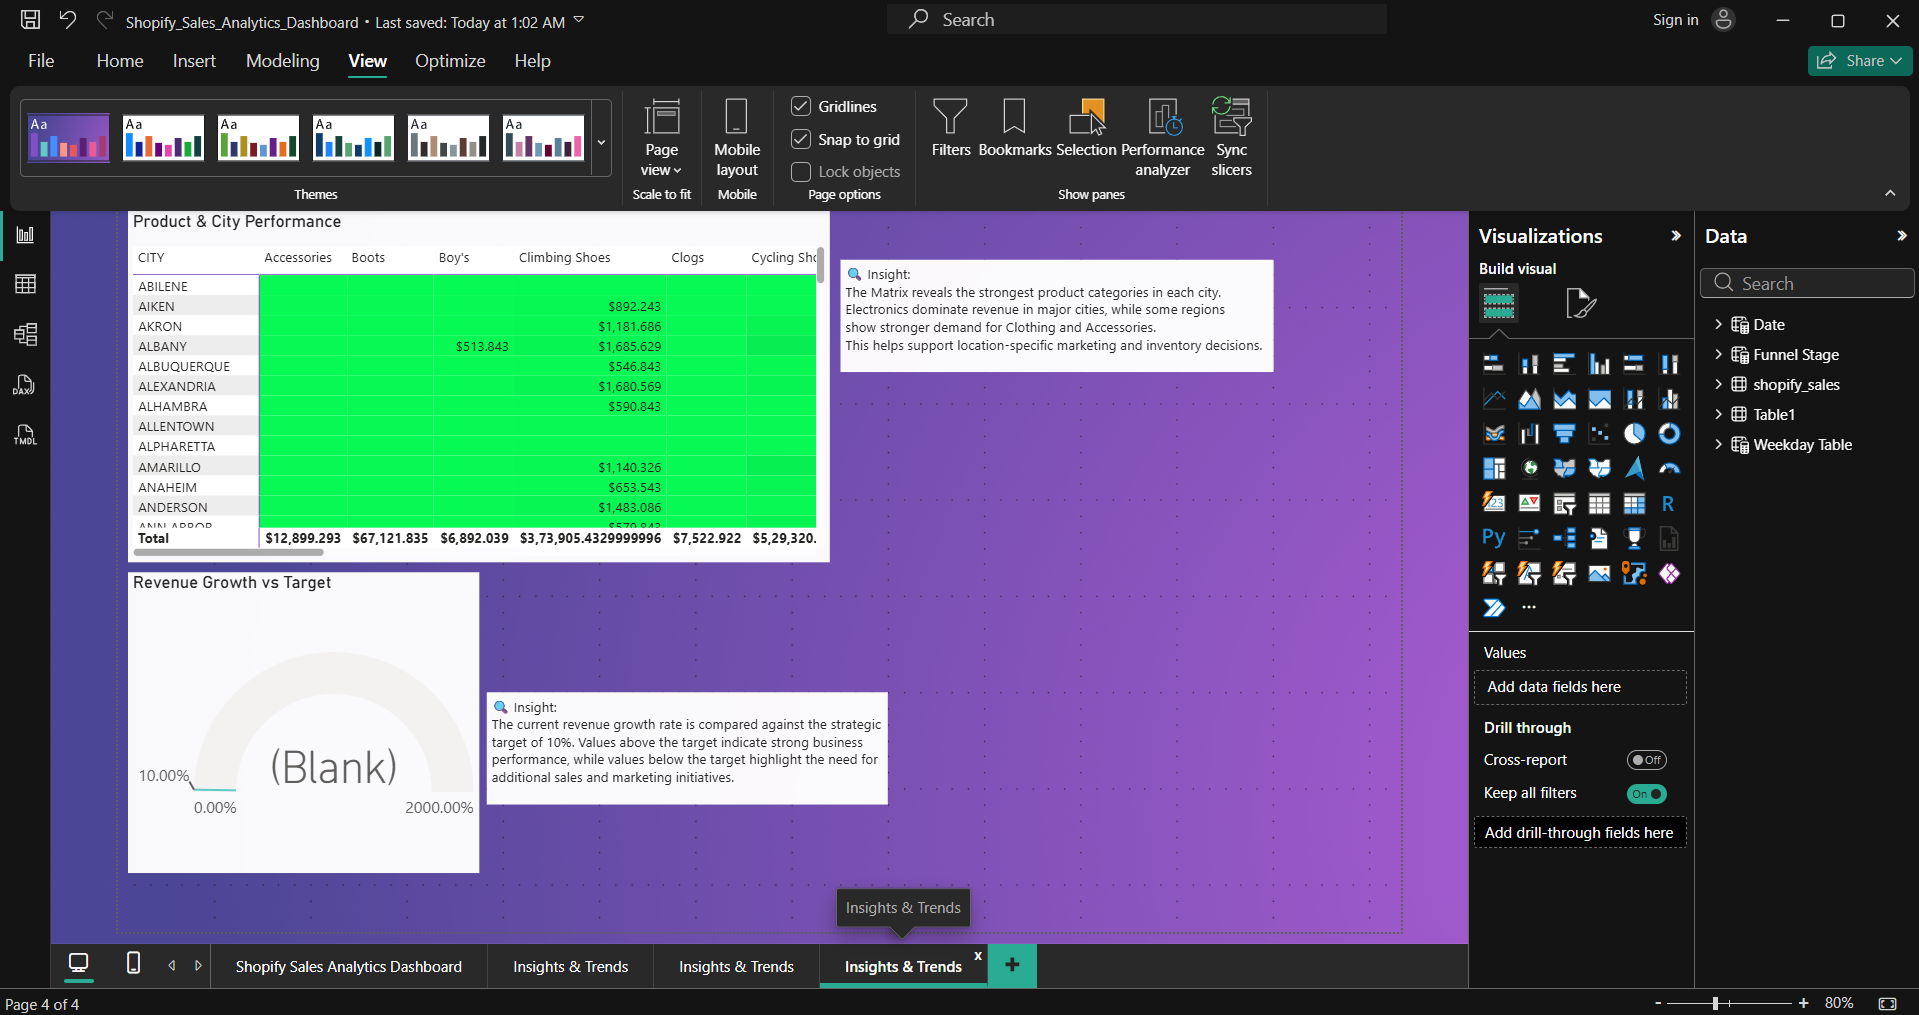

The dashboard page shown, as its layout file describes it:
{"tool":"powerbi","page":{"name":"Insights & Trends","canvas":[1280,720],"ordinal":3},"visuals":[{"type":"pivotTable","title":"Product & City Performance","fields":{"Rows":["shopify_sales.CITY"],"Columns":["shopify_sales.Product Type"],"Values":["Date.Total Revenue"]},"box":[10,0,700,350],"z":0},{"type":"textbox","box":[720,48,432,96],"z":1000},{"type":"gauge","title":"Revenue Growth vs Target","fields":{"Y":["Date.Revenue Growth %"],"TargetValue":["Date.Revenue Target"]},"box":[10,360,350,300],"z":2000},{"type":"textbox","box":[432,464,400,96],"z":3000}]}

Visuals, with their boxes on the page's 1280x720 design canvas (x1, y1, x2, y2). These are canvas units, not pixel positions in the 1919x1015 screenshot, which may show the page scaled, cropped or inside an application window:
"Product & City Performance" pivotTable: [left=10, top=0, right=710, bottom=350]
textbox: [left=720, top=48, right=1152, bottom=144]
"Revenue Growth vs Target" gauge: [left=10, top=360, right=360, bottom=660]
textbox: [left=432, top=464, right=832, bottom=560]
